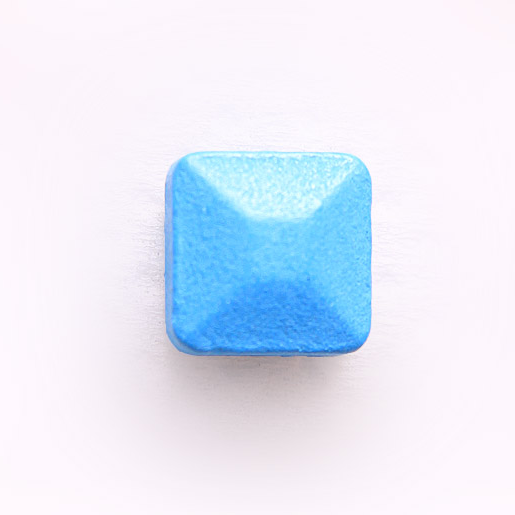Square: (162, 149, 375, 359)
